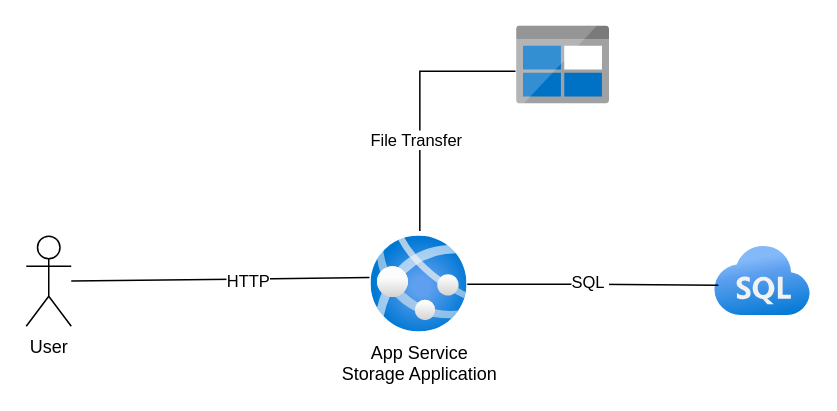
Some shapes in this 837 by 411 pixel diagram are drawn without their labels. The shapes that lost their labels are listed below. From the top down, each one's box as (x1, y1, x2, y2) in pixels, then its label:
(516, 26, 609, 104): Blob Storage
(714, 246, 810, 315): Azure SQL Database
